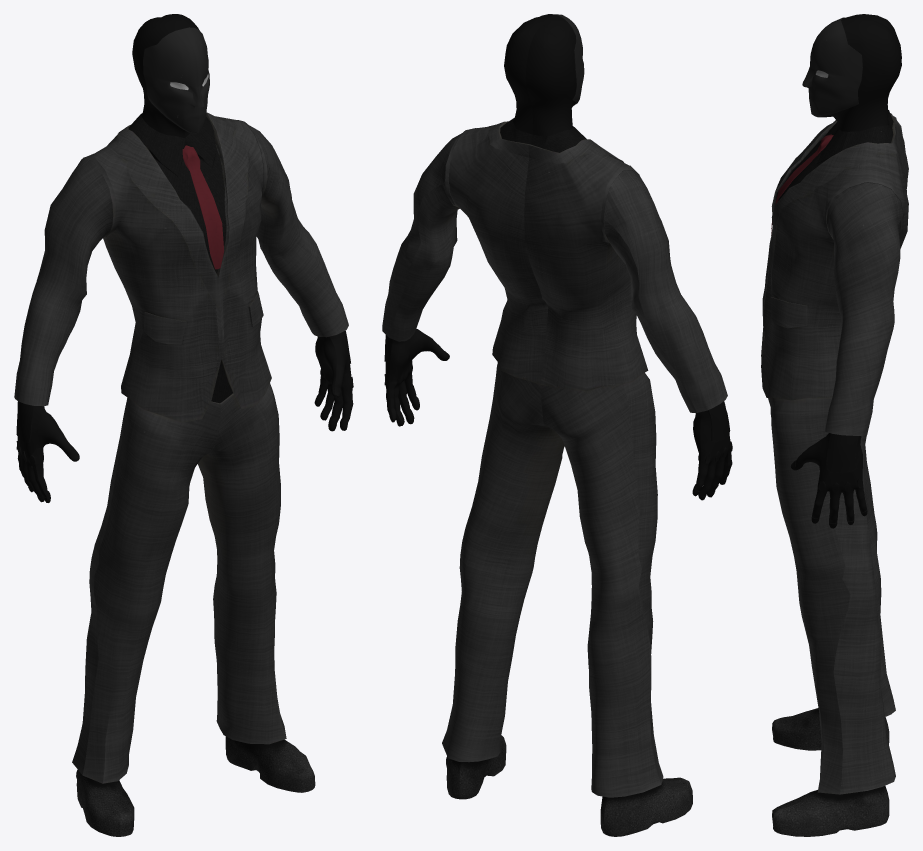
The model's file is merchant.glb.
3 renders of one model, left to right at view 1: azimuth 30°, elevation 25°; view 2: azimuth 150°, elevation 25°; view 3: azimuth 270°, elevation 25°, orthographic. The views are drawn at different scales.
Parts seen in each view (by area): view 1: SM_BaseMesh_Male_001_Material_004_0; view 2: SM_BaseMesh_Male_001_Material_004_0; view 3: SM_BaseMesh_Male_001_Material_004_0.
Boxes of the visible parts, box(x1,y1,x2,y2) form: SM_BaseMesh_Male_001_Material_004_0: box(14, 14, 353, 836); SM_BaseMesh_Male_001_Material_004_0: box(382, 14, 732, 836); SM_BaseMesh_Male_001_Material_004_0: box(761, 14, 908, 836).
Bounding box in the file's own units: 0.8102 × 1.8 × 0.3149.
2 materials, 1 textured.
